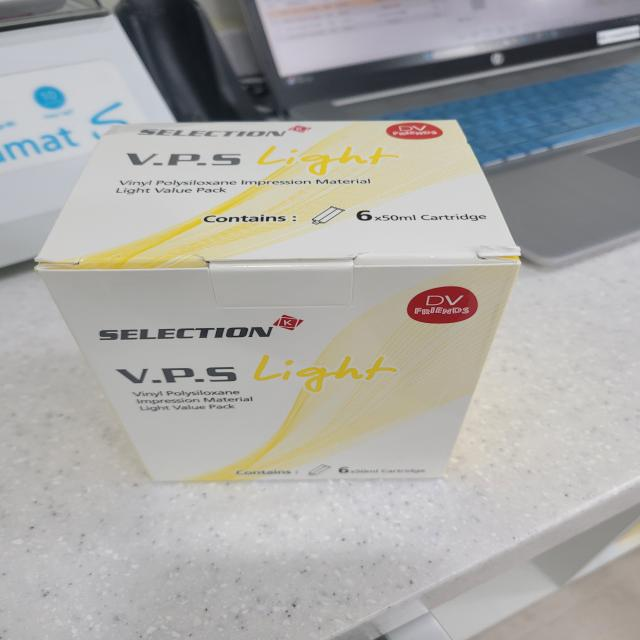impression: (39, 112, 528, 503)
